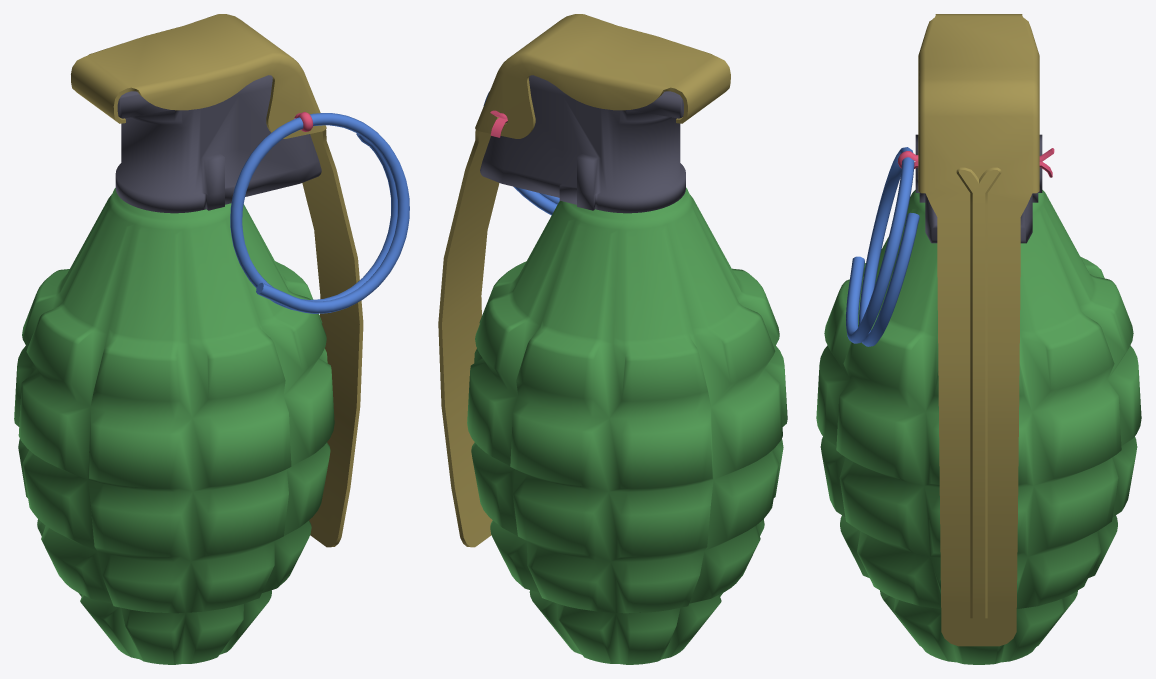
3 views of the same model, side by side, from view 1: azimuth 30°, elevation 25°; view 2: azimuth 150°, elevation 25°; view 3: azimuth 270°, elevation 25° (orthographic).
Parts seen in each view (by area): view 1: Cylinder_lo, HAND_lo, Object_lo, Spring_lo; view 2: Cylinder_lo, HAND_lo, Object_lo, Spring_lo; view 3: Cylinder_lo, HAND_lo, Spring_lo, Object_lo.
Boxes of the visible parts, box(x1,y1,x2,y2) form: Cylinder_lo: box(14, 188, 334, 664); HAND_lo: box(71, 14, 363, 547); Object_lo: box(115, 75, 321, 213); Spring_lo: box(230, 113, 409, 313); Cylinder_lo: box(467, 187, 787, 664); HAND_lo: box(438, 14, 730, 547); Object_lo: box(480, 75, 685, 213); Spring_lo: box(483, 91, 559, 215); Cylinder_lo: box(816, 190, 1141, 664); HAND_lo: box(918, 14, 1039, 646); Spring_lo: box(846, 147, 919, 346); Object_lo: box(915, 134, 1042, 243).
Bounding box in the file's own units: 3.57 × 6.2 × 3.07.
